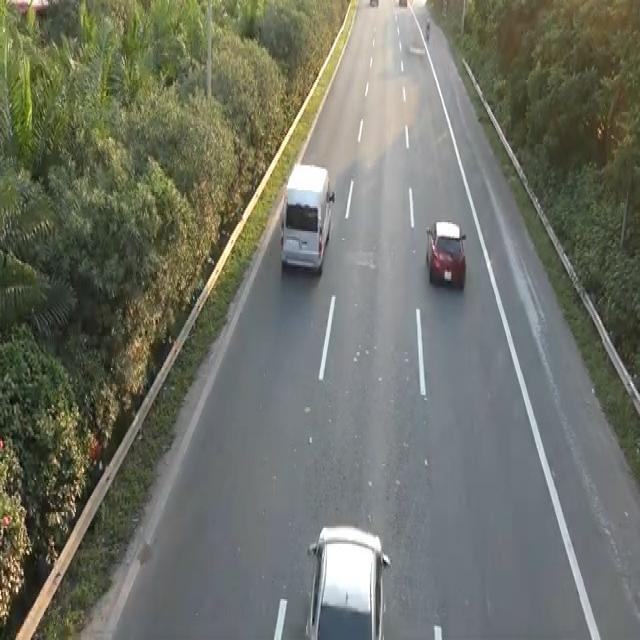bus: (303, 521, 391, 636), (424, 217, 468, 290)
jeep: (278, 160, 336, 276)
